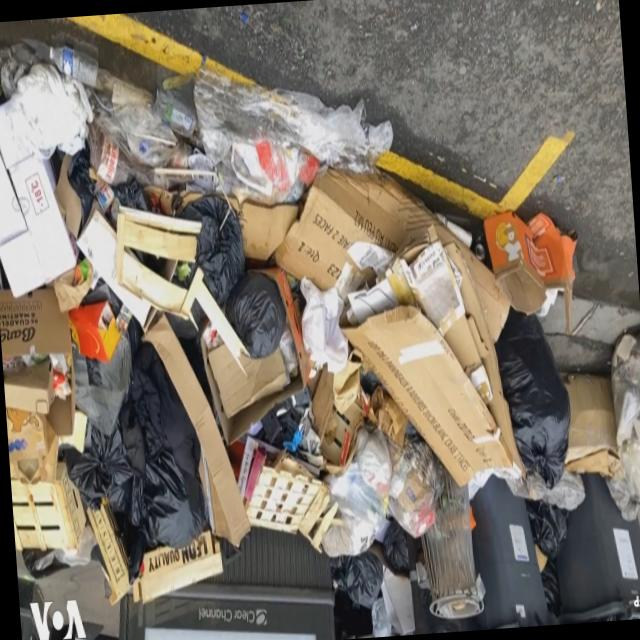high trash: (0, 37, 640, 640)
